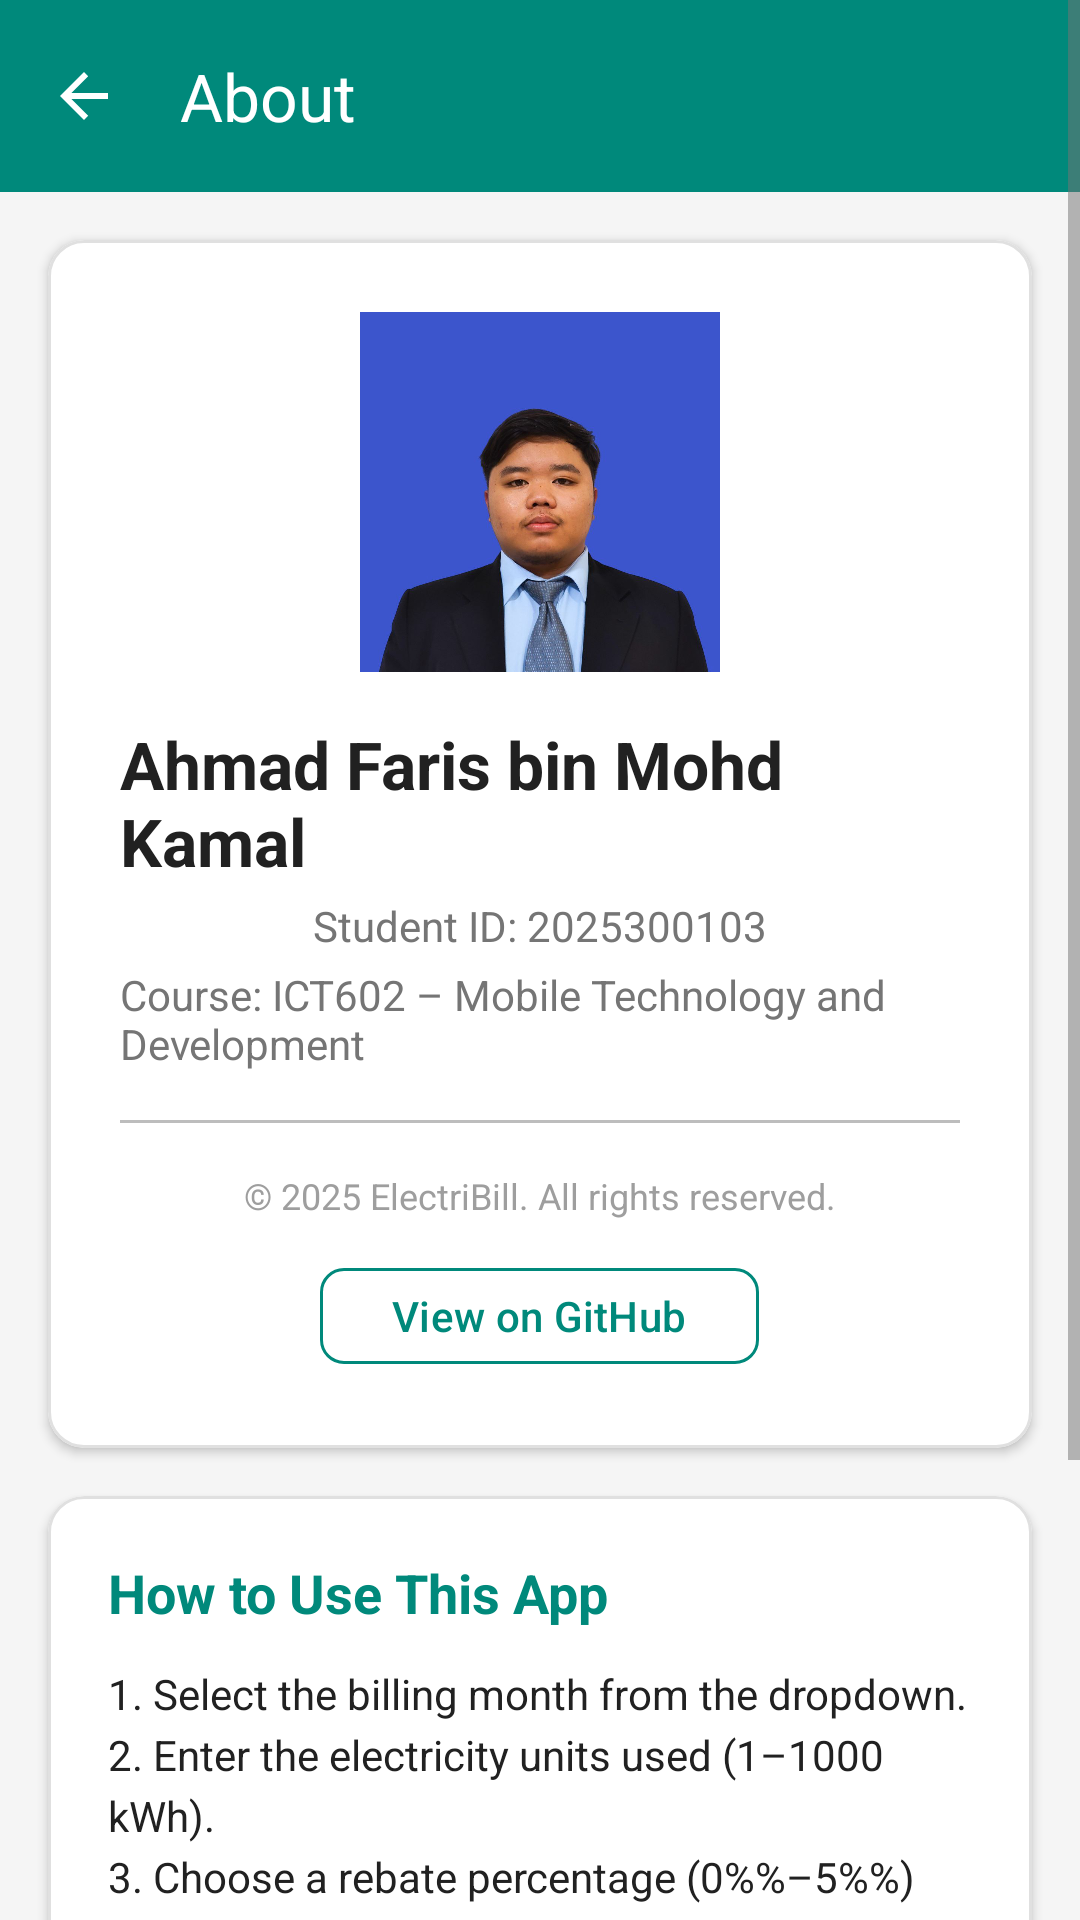

Point at icon controls on the screen. Image size 1080 x 1920, points as (x=x, y=y).
Student photo: (x=540, y=492)
